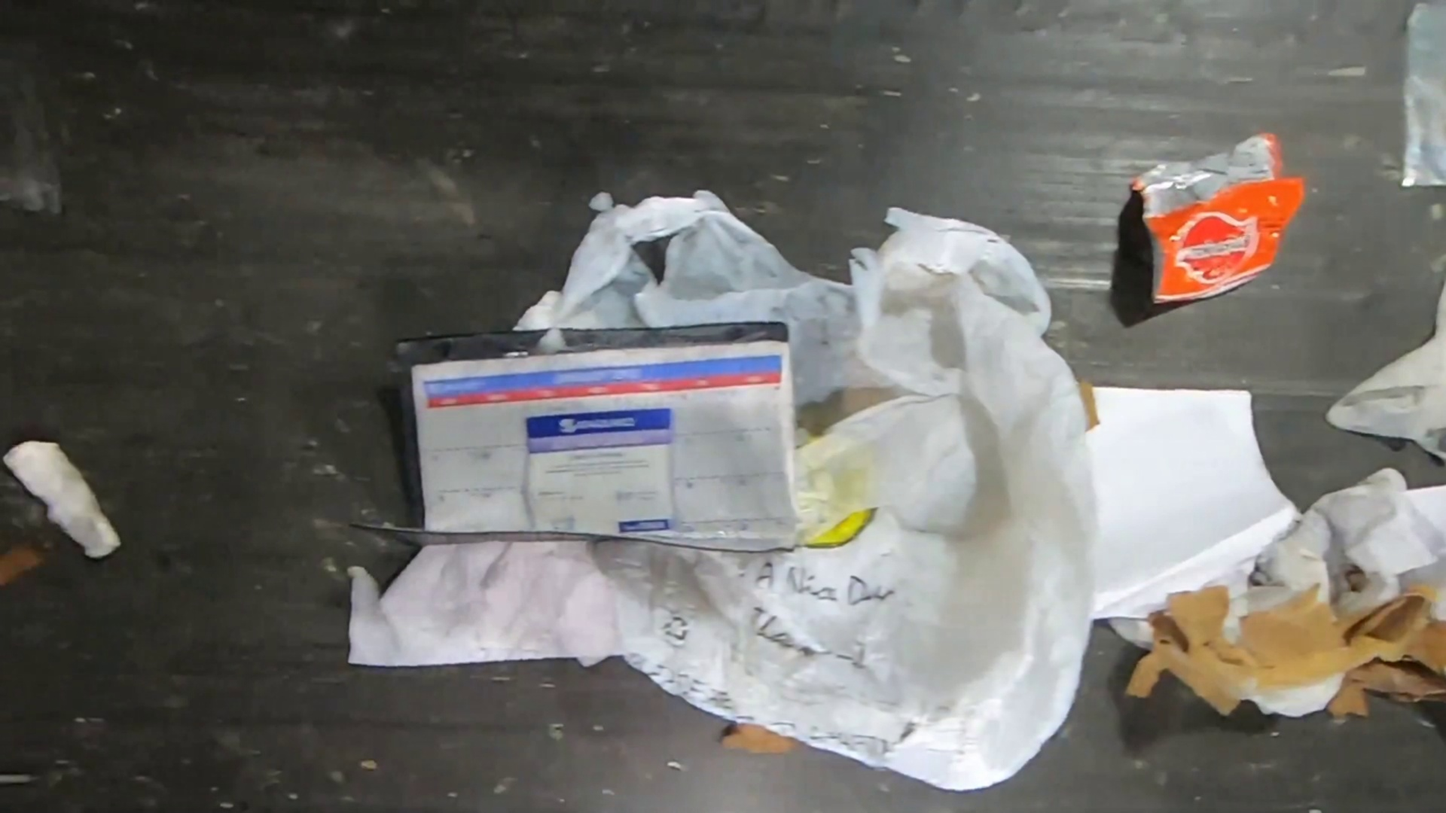cardboard: (1122, 581, 1446, 723)
plastic: (557, 189, 1098, 794), (349, 325, 803, 552), (1130, 130, 1310, 305), (1400, 7, 1446, 188)
